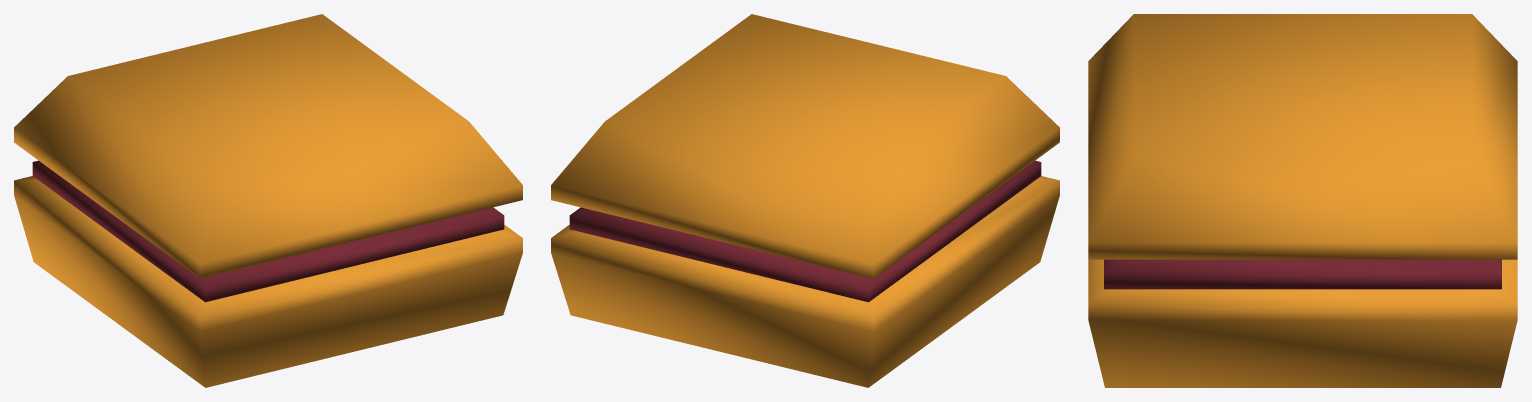
Rendered from burger2.glb.
The picture shows the model from 3 angles, left to right: view 1: azimuth 30°, elevation 25°; view 2: azimuth 150°, elevation 25°; view 3: azimuth 270°, elevation 25°; orthographic projection. The views are drawn at different scales.
Parts seen in each view (by area): view 1: Cube.002, Cube, Cube.001; view 2: Cube.002, Cube, Cube.001; view 3: Cube.002, Cube, Cube.001.
Boxes of the visible parts, bbox=[...] form: Cube.002: bbox=[14, 14, 522, 278]; Cube: bbox=[14, 176, 522, 387]; Cube.001: bbox=[32, 160, 504, 302]; Cube.002: bbox=[551, 14, 1059, 278]; Cube: bbox=[551, 176, 1059, 387]; Cube.001: bbox=[569, 160, 1041, 302]; Cube.002: bbox=[1088, 14, 1517, 259]; Cube: bbox=[1088, 259, 1517, 387]; Cube.001: bbox=[1104, 259, 1501, 289].
Bounding box in the file's own units: 9.95 × 5.6 × 9.95.
